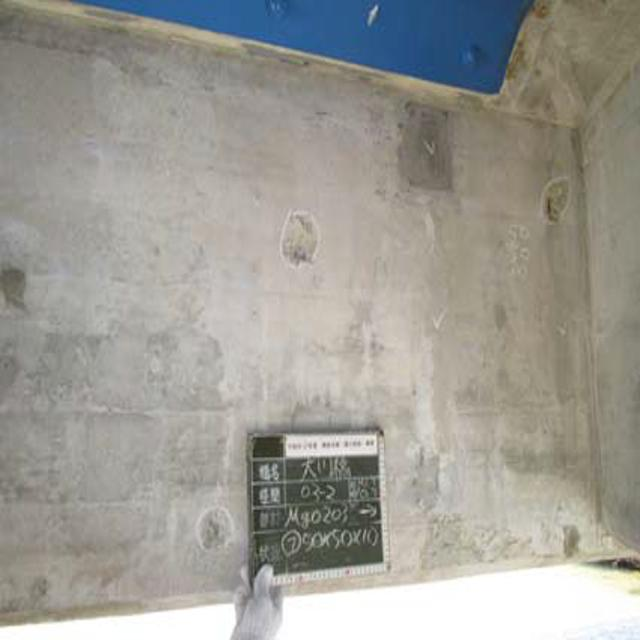spalling: (277, 203, 327, 284), (530, 177, 576, 236)
